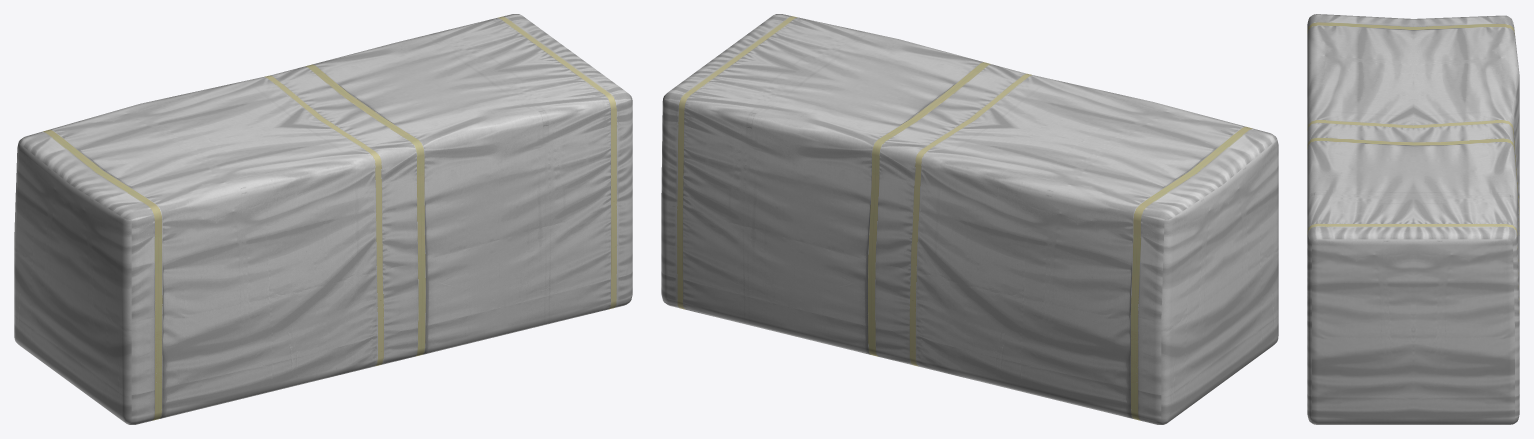
File: SafeBlock_01.FBX
3 views of the same model, side by side, from view 1: azimuth 30°, elevation 25°; view 2: azimuth 150°, elevation 25°; view 3: azimuth 270°, elevation 25° (orthographic). The views are drawn at different scales.
Parts seen in each view (by area): view 1: SafeBlock_01; view 2: SafeBlock_01; view 3: SafeBlock_01.
Boxes of the visible parts, left/top/right/bottom form: SafeBlock_01: left=14, top=14, right=632, bottom=424; SafeBlock_01: left=661, top=14, right=1278, bottom=424; SafeBlock_01: left=1307, top=14, right=1519, bottom=424.
Bounding box in the file's own units: 1.5 × 0.6201 × 0.6.
